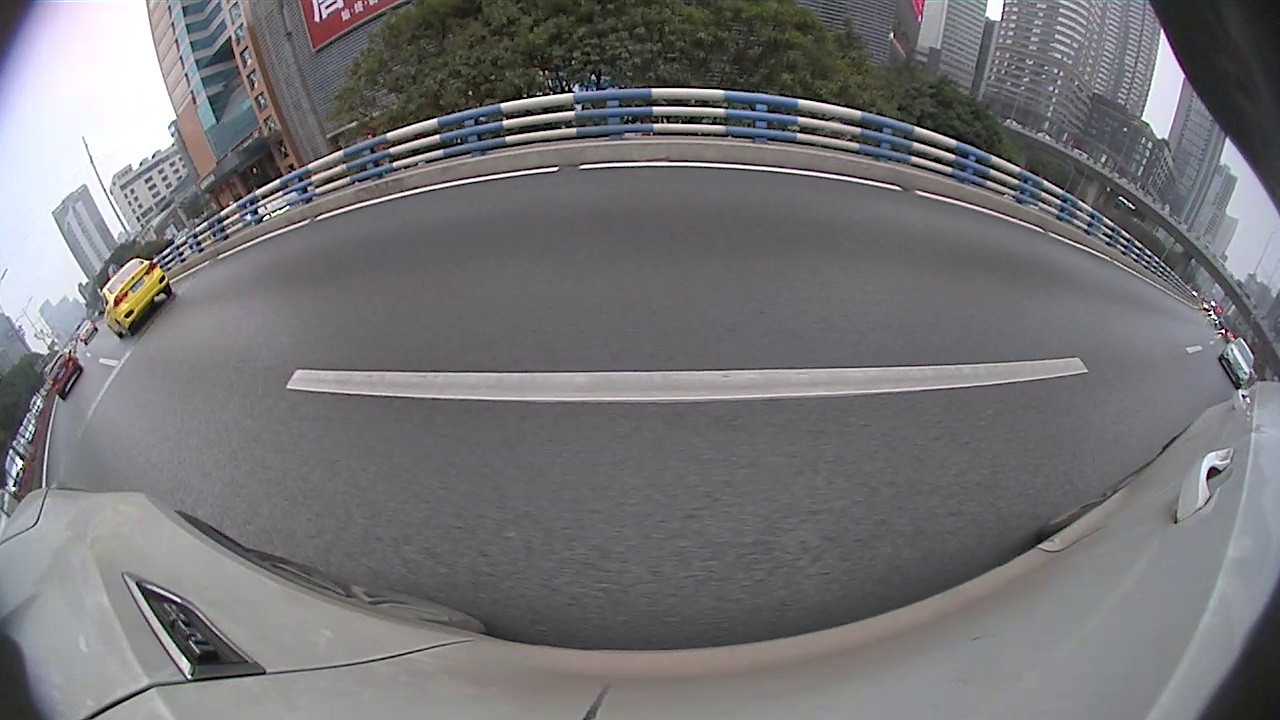bus: (718, 129, 808, 187)
car: (267, 153, 482, 277), (597, 131, 711, 210), (1, 335, 72, 413), (65, 300, 134, 358), (492, 155, 555, 203), (553, 160, 587, 187)
front: (466, 190, 481, 221)
person: (1236, 304, 1248, 370), (1252, 320, 1261, 349)
rear: (380, 215, 410, 259)
